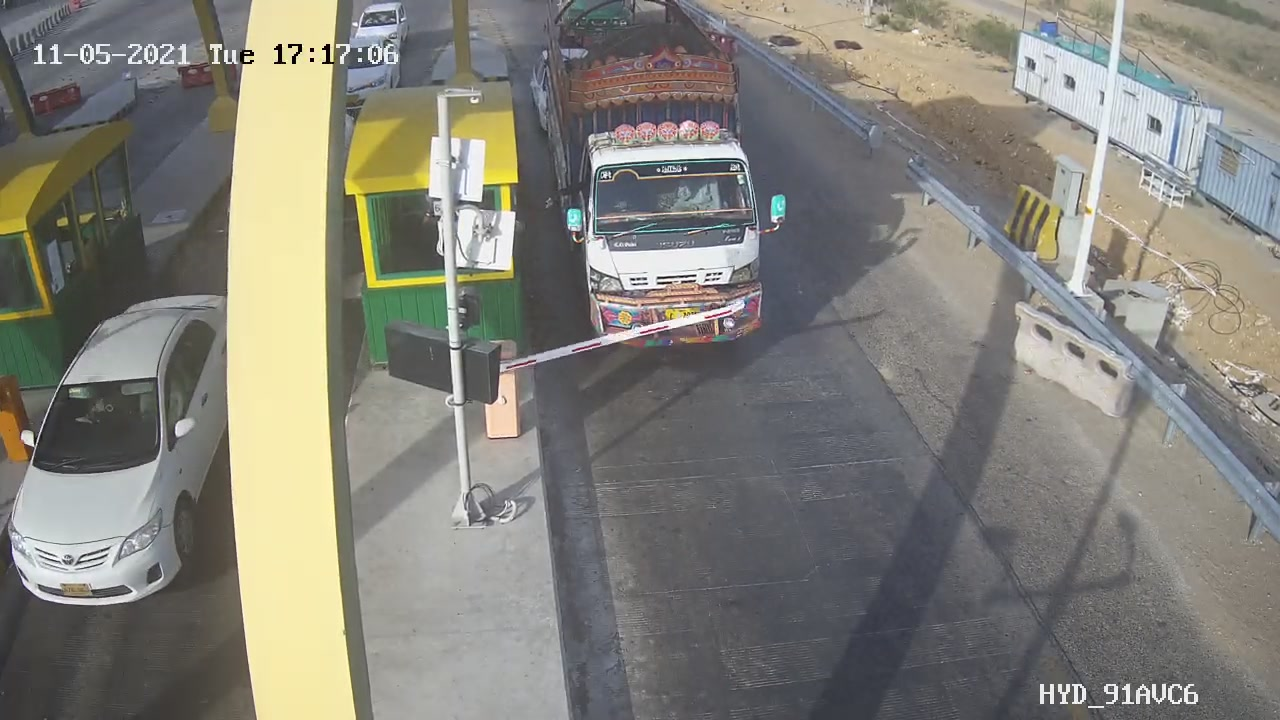F5: (530, 1, 804, 368)
